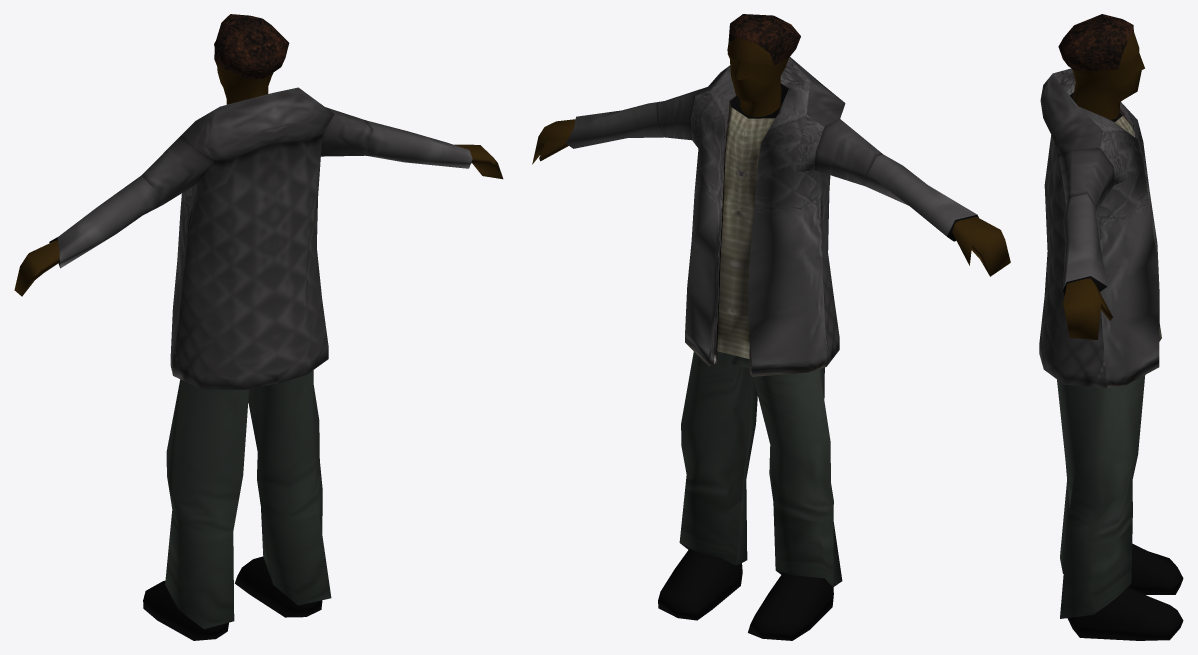
Rendered from Jarell.glb.
3 renders of one model, left to right at view 1: azimuth 30°, elevation 25°; view 2: azimuth 150°, elevation 25°; view 3: azimuth 270°, elevation 25°, orthographic. The views are drawn at different scales.
Parts seen in each view (by area): view 1: Torso, Pants, Head, Shoes, Hands; view 2: Torso, Pants, Shoes, Head, Hands; view 3: Torso, Pants, Head, Shoes, Hands.
Boxes of the visible parts, box(x1,y1,x2,y2) form: Torso: box(49, 87, 472, 389); Pants: box(165, 370, 331, 629); Head: box(214, 14, 289, 104); Shoes: box(143, 556, 322, 640); Hands: box(14, 144, 503, 296); Torso: box(566, 57, 978, 376); Pants: box(679, 351, 842, 587); Shoes: box(658, 548, 833, 640); Head: box(727, 14, 800, 116); Hands: box(532, 119, 1010, 276); Torso: box(1039, 68, 1161, 388); Pants: box(1057, 375, 1145, 618); Head: box(1058, 14, 1144, 119); Shoes: box(1067, 543, 1183, 640); Hands: box(1063, 278, 1112, 339).
Bounding box in the file's own units: 1.45 × 1.72 × 0.3822.
1 material, 1 textured.
